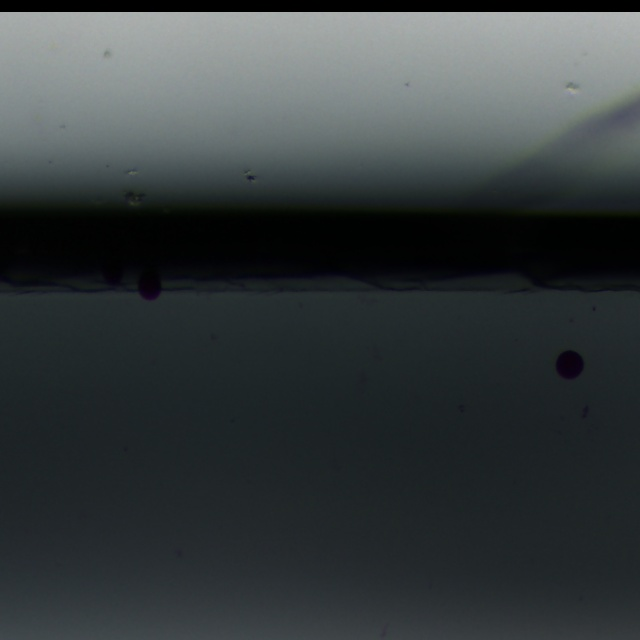viable: (556, 351, 583, 379), (139, 271, 161, 300)
